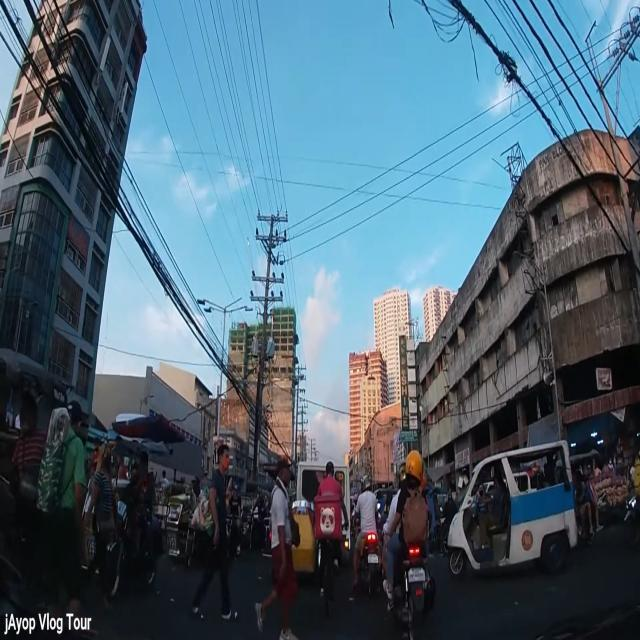bike: (314, 461, 349, 620)
motorcycle: (382, 451, 434, 640), (352, 473, 383, 604), (623, 485, 640, 546)
tricycle: (448, 438, 578, 580), (87, 428, 172, 592), (260, 461, 314, 588), (556, 449, 604, 548), (167, 478, 210, 570)
truck: (296, 460, 350, 548)
